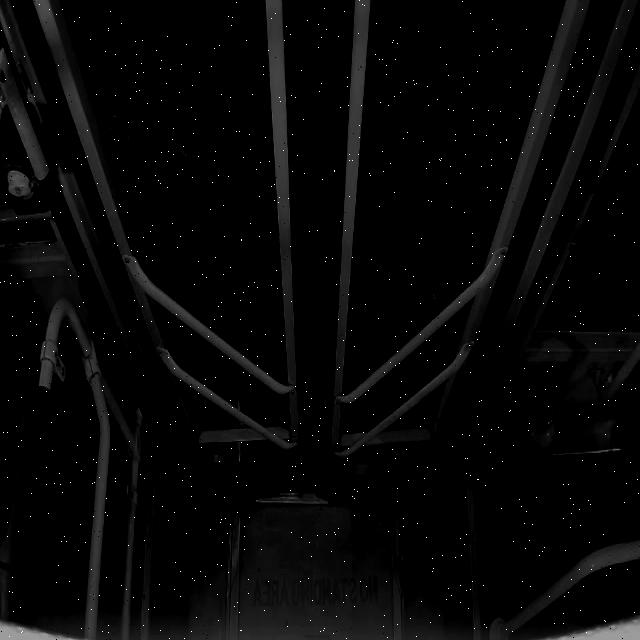close: (63, 4, 566, 490)
